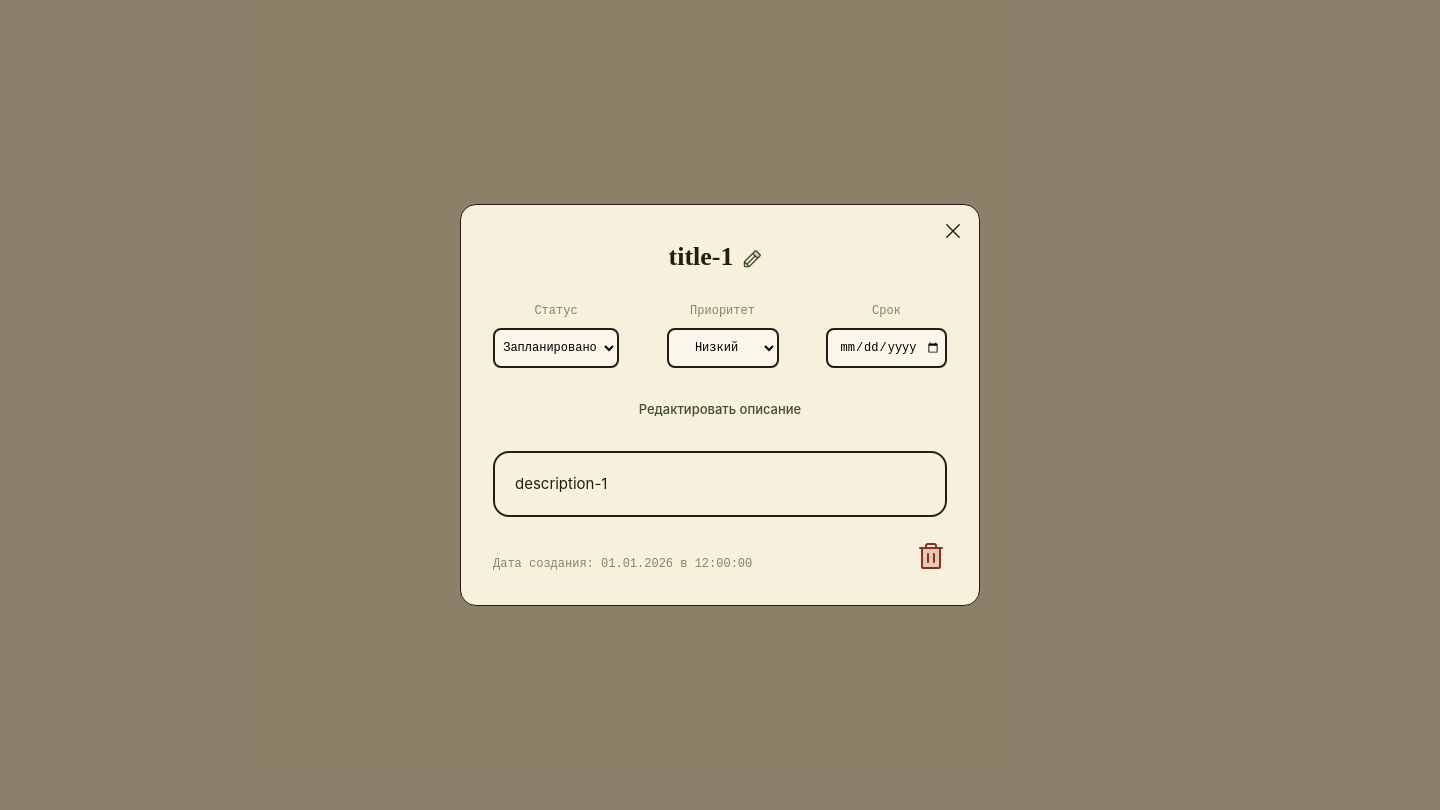
Scenario: TaskDetailsModal › opens description editor, focuses textarea, and closes title editor
The width and height of the screenshot is (1440, 810).
Click the button named "Редактировать название": point(752, 259) [734, 240, 772, 278]
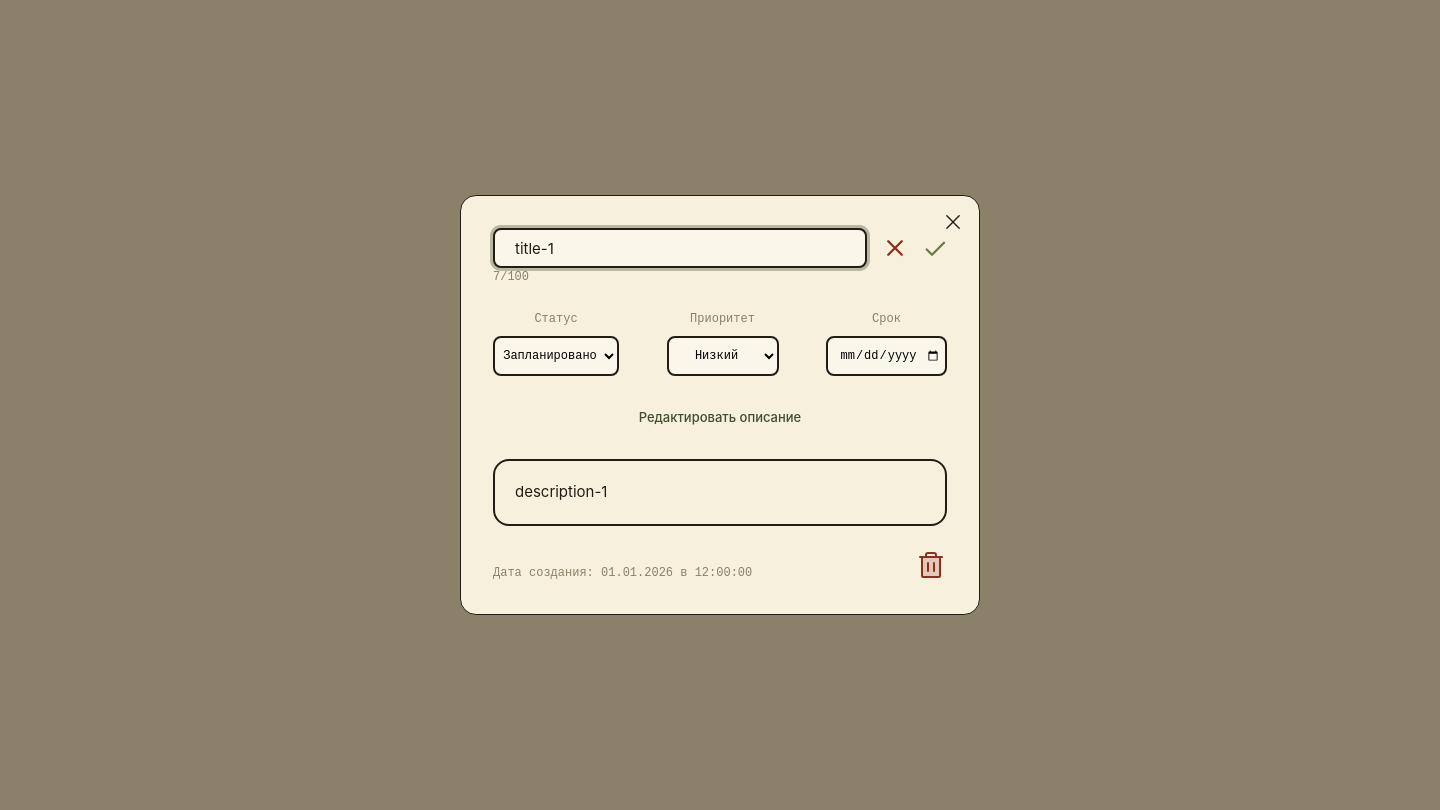
Expected: the field named "Название задачи" is shown, [493, 228, 867, 268]
Click the button "Редактировать описание": point(720, 418) [631, 400, 809, 435]
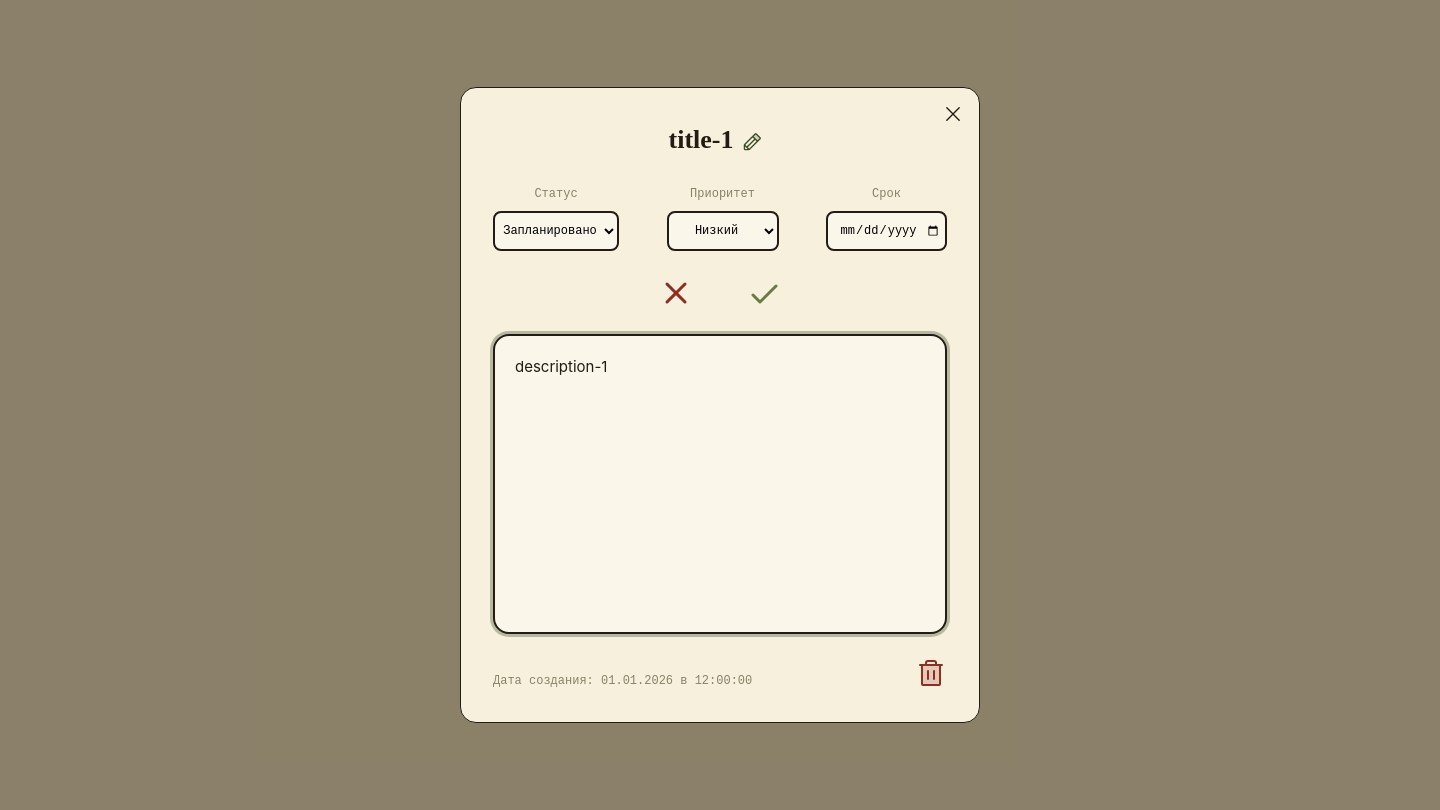
Expected: the text box named "Описание задачи" is shown, [493, 334, 947, 634]
